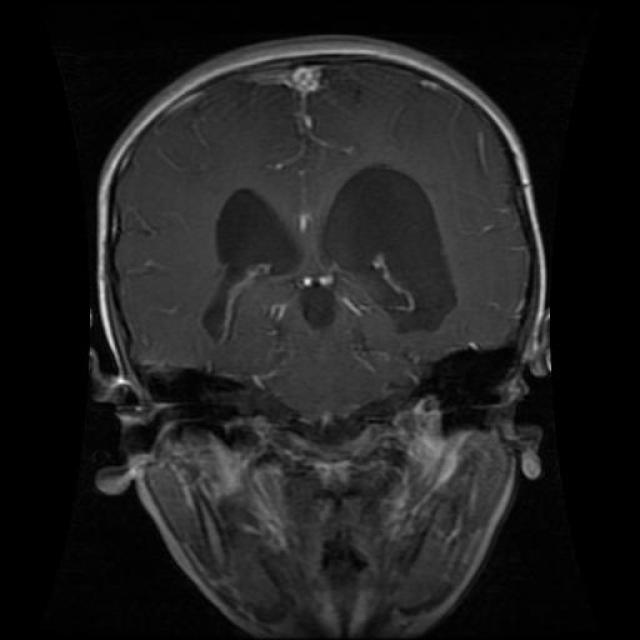glioma: (208, 160, 458, 336)
